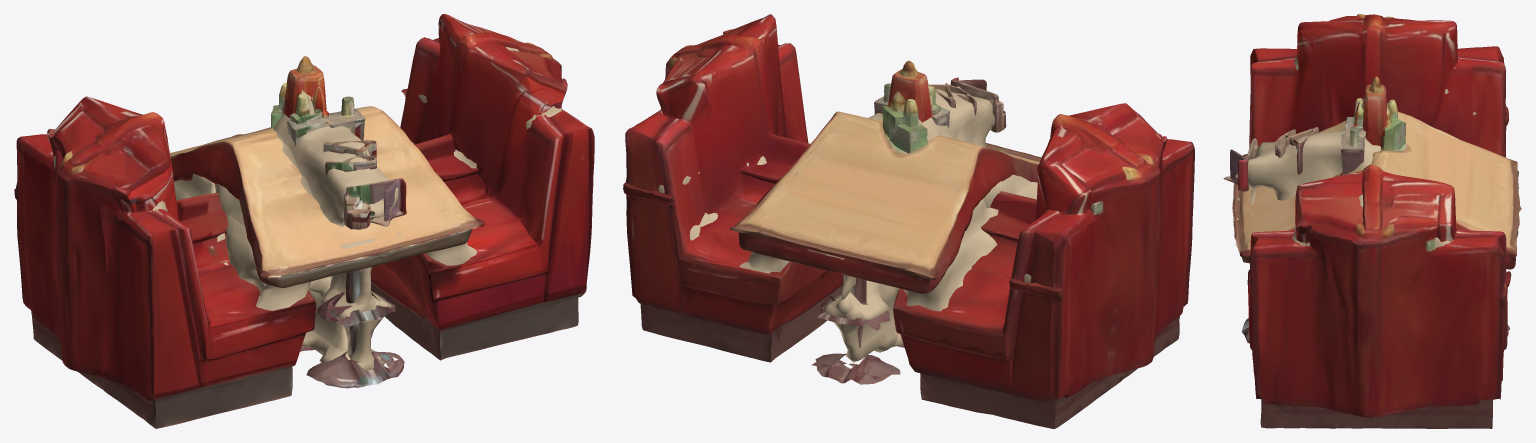
Rendered from booth_chunks.glb.
The picture shows the model from 3 angles, left to right: view 1: azimuth 30°, elevation 25°; view 2: azimuth 150°, elevation 25°; view 3: azimuth 270°, elevation 25°; orthographic projection. The views are drawn at different scales.
Visible parts, largest first — view 1: chunk3_shell, chunk4_shell, chunk0_shell, chunk0_core, chunk2_shell, chunk5_shell, chunk1_shell, chunk4_core, chunk1_core, chunk2_core; view 2: chunk3_shell, chunk1_shell, chunk0_shell, chunk2_shell, chunk5_shell, chunk1_core, chunk0_core, chunk4_shell, chunk2_core; view 3: chunk5_shell, chunk3_shell, chunk1_shell, chunk4_shell, chunk0_shell, chunk0_core, chunk2_shell.
Part boxes in pixels (x1,y1,x2,y2): chunk3_shell: (14, 96, 224, 428); chunk4_shell: (252, 46, 594, 388); chunk0_shell: (200, 14, 495, 384); chunk0_core: (215, 90, 398, 310); chunk2_shell: (170, 144, 247, 417); chunk5_shell: (386, 18, 561, 346); chunk1_shell: (222, 37, 439, 412); chunk4_core: (319, 106, 561, 370); chunk1_core: (302, 94, 427, 363); chunk2_core: (174, 174, 228, 265); chunk3_shell: (981, 103, 1194, 428); chunk1_shell: (623, 119, 948, 405); chunk0_shell: (690, 30, 1041, 299); chunk2_shell: (862, 170, 1036, 417); chunk5_shell: (645, 34, 809, 174); chunk1_core: (658, 172, 903, 362); chunk0_core: (807, 86, 1037, 299); chunk4_shell: (705, 14, 808, 142); chunk2_core: (904, 197, 998, 311); chunk5_shell: (1282, 177, 1469, 428); chunk3_shell: (1249, 14, 1508, 157); chunk1_shell: (1338, 220, 1517, 428); chunk4_shell: (1232, 177, 1357, 428); chunk0_shell: (1223, 76, 1521, 242); chunk0_core: (1236, 98, 1395, 204); chunk2_shell: (1407, 115, 1518, 191).
Bounding box in the file's own units: 2.13 × 1.15 × 1.2.
Materials: 1 (1 with a texture image).
